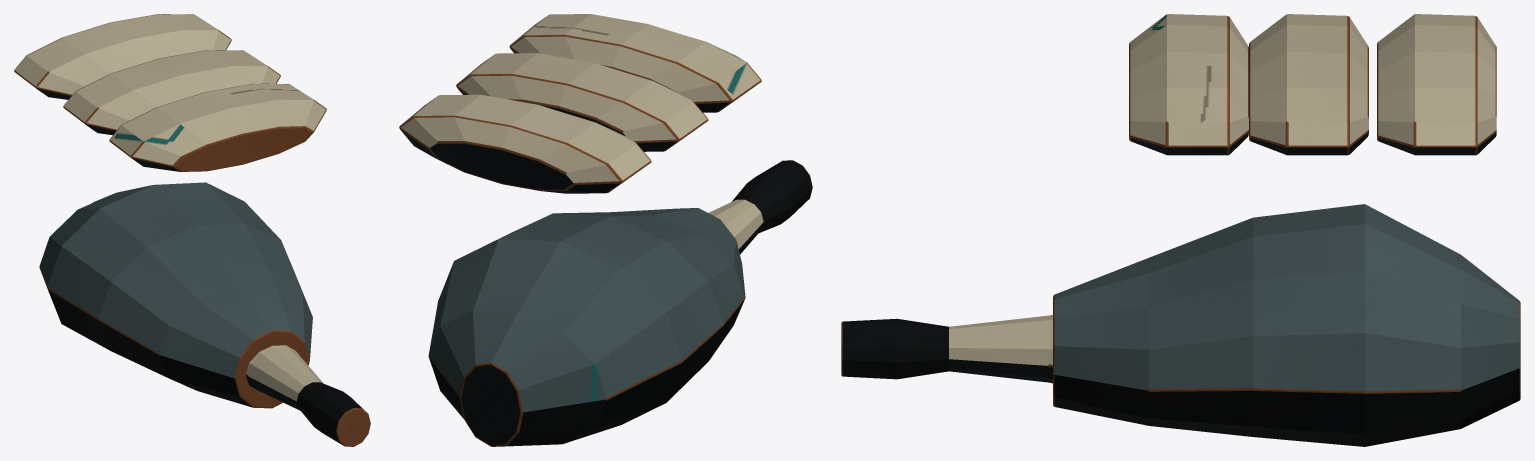
The model's file is Fragmento_MeshLibrary.fbx.
The picture shows the model from 3 angles, left to right: view 1: azimuth 30°, elevation 25°; view 2: azimuth 150°, elevation 25°; view 3: azimuth 270°, elevation 25°; orthographic projection. The views are drawn at different scales.
Parts seen in each view (by area): view 1: F_Carapaca, F_Dorso_segmentado, F_Coxa_com_encaixe; view 2: F_Carapaca, F_Dorso_segmentado, F_Coxa_com_encaixe; view 3: F_Carapaca, F_Dorso_segmentado, F_Coxa_com_encaixe.
Boxes of the visible parts, box(x1,y1,x2,y2) form: F_Carapaca: box(39, 182, 312, 408); F_Dorso_segmentado: box(14, 14, 326, 171); F_Coxa_com_encaixe: box(245, 345, 370, 446); F_Carapaca: box(428, 208, 745, 446); F_Dorso_segmentado: box(399, 14, 761, 193); F_Coxa_com_encaixe: box(708, 160, 812, 254); F_Carapaca: box(1053, 204, 1520, 446); F_Dorso_segmentado: box(1129, 14, 1496, 155); F_Coxa_com_encaixe: box(841, 315, 1052, 383).
Size of the model in its own units: 79.43 by 104 by 170.
1 material, 1 textured.
